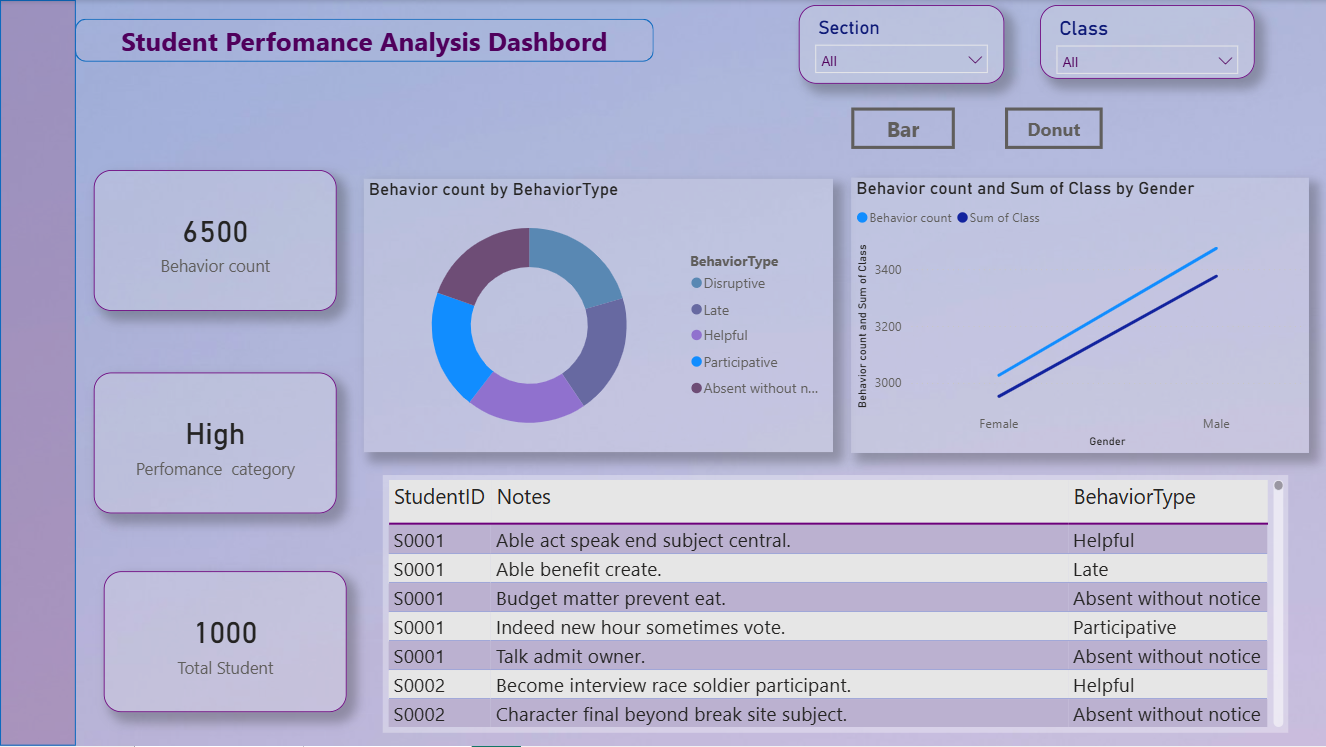

The page's visual inventory and layout, read from the dashboard file:
{"tool":"powerbi","page":{"name":"Student Behavior","canvas":[1280,720],"ordinal":1},"visuals":[{"type":"lineChart","fields":{"Category":["Students csv.Gender"],"Y":["New Measure.Behavior count","Sum(Students csv.Class)"]},"box":[821.4,171.4,441.4,265.7],"z":0},{"type":"shape","box":[72.9,18.6,558.6,41.4],"z":1000},{"type":"donutChart","fields":{"Category":["Behavior csv.BehaviorType"],"Y":["New Measure.Behavior count"]},"box":[351.4,172.9,452.9,264.3],"z":2000},{"type":"slicer","fields":{"Values":["Students csv.Section"]},"box":[771.4,4.3,198.6,75.7],"z":6000},{"type":"slicer","fields":{"Values":["Students csv.Class"]},"box":[1004.3,4.3,207.1,71.4],"z":8000},{"type":"card","fields":{"Values":["New Measure.Behavior count"]},"box":[90,164.3,234.3,135.7],"z":9000},{"type":"card","fields":{"Values":["Students csv.Total Student"]},"box":[100,551.4,234.3,135.7],"z":10000},{"type":"card","fields":{"Values":["New Measure.Perfomance  category"]},"box":[90,360,234.3,135.7],"z":11000},{"type":"actionButton","box":[970,104.3,94.3,40],"z":13000},{"type":"actionButton","box":[821.4,104.3,100,40],"z":15000},{"type":"shape","box":[0,0,73.2,719.7],"z":15001},{"type":"tableEx","fields":{"Values":["Behavior csv.StudentID","Behavior csv.Notes","Behavior csv.BehaviorType"]},"box":[368.6,458.6,874.3,248.6],"z":15002}]}

Visuals, with their boxes in screenshot pixels (x1, y1, x2, y2), scaled from the page's 1280x720 canvas onto the 1326x747 screenshot:
lineChart - Students csv.Gender x New Measure.Behavior count: x1=851 y1=178 x2=1308 y2=453
shape: x1=76 y1=19 x2=654 y2=62
donutChart - Behavior csv.BehaviorType x New Measure.Behavior count: x1=364 y1=179 x2=833 y2=454
slicer - Students csv.Section: x1=799 y1=4 x2=1005 y2=83
slicer - Students csv.Class: x1=1040 y1=4 x2=1255 y2=79
card - New Measure.Behavior count: x1=93 y1=170 x2=336 y2=311
card - Students csv.Total Student: x1=104 y1=572 x2=346 y2=713
card - New Measure.Perfomance  category: x1=93 y1=374 x2=336 y2=514
actionButton: x1=1005 y1=108 x2=1103 y2=150
actionButton: x1=851 y1=108 x2=955 y2=150
shape: x1=0 y1=0 x2=76 y2=746
tableEx - Behavior csv.StudentID x Behavior csv.Notes: x1=382 y1=476 x2=1288 y2=734
